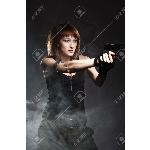Pistol: (92, 42, 124, 64)
